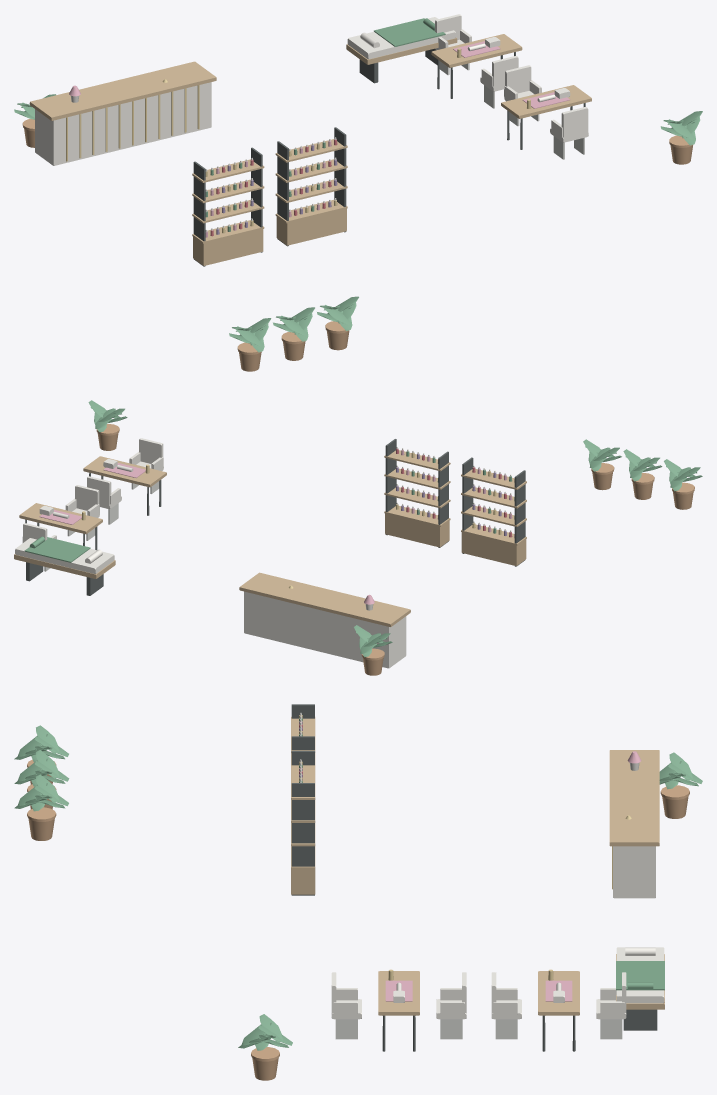
Rendered from spa_furniture.glb.
3 renders of one model, top to bottom at view 1: azimuth 30°, elevation 25°; view 2: azimuth 150°, elevation 25°; view 3: azimuth 270°, elevation 25°, orthographic. The views are drawn at different scales.
Visible parts, largest first — view 1: SpaWoodFurn, SpaCreamFurn, SpaGreenFoliage, SpaSteelFurn, SpaPlanterPots, SpaGoldAccents, SpaPinkAccents, SpaChromeFurn; view 2: SpaWoodFurn, SpaCreamFurn, SpaGreenFoliage, SpaSteelFurn, SpaPlanterPots, SpaPinkAccents, SpaChromeFurn; view 3: SpaWoodFurn, SpaCreamFurn, SpaGreenFoliage, SpaSteelFurn, SpaPlanterPots, SpaChromeFurn, SpaPinkAccents.
Boxes of the visible parts, x1,y1,x2,y2 form: SpaWoodFurn: [29, 34, 591, 265]; SpaCreamFurn: [35, 14, 588, 232]; SpaGreenFoliage: [14, 18, 702, 352]; SpaSteelFurn: [193, 48, 585, 266]; SpaPlanterPots: [22, 119, 692, 371]; SpaGoldAccents: [66, 48, 531, 233]; SpaPinkAccents: [69, 41, 570, 237]; SpaChromeFurn: [439, 61, 584, 159]; SpaWoodFurn: [14, 450, 526, 626]; SpaCreamFurn: [15, 438, 515, 668]; SpaGreenFoliage: [24, 400, 702, 657]; SpaSteelFurn: [25, 439, 525, 595]; SpaPlanterPots: [96, 424, 694, 675]; SpaPinkAccents: [39, 450, 514, 604]; SpaChromeFurn: [44, 481, 159, 571]; SpaWoodFurn: [291, 717, 664, 1015]; SpaCreamFurn: [300, 713, 664, 1019]; SpaGreenFoliage: [14, 718, 702, 1050]; SpaSteelFurn: [291, 704, 657, 1051]; SpaPlanterPots: [27, 759, 689, 1080]; SpaChromeFurn: [335, 1019, 622, 1039]; SpaPinkAccents: [299, 721, 641, 1001].
Size of the model in its own units: 13 by 2.25 by 11.85.
